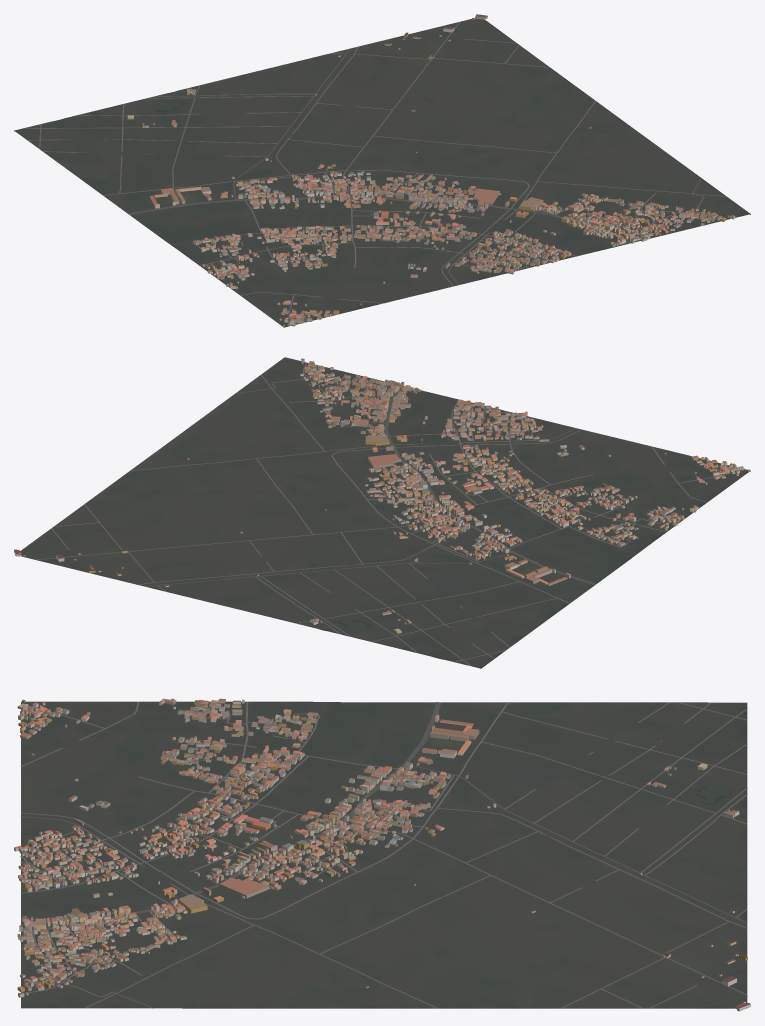
3 views of the same model, one above another, from view 1: azimuth 30°, elevation 25°; view 2: azimuth 150°, elevation 25°; view 3: azimuth 270°, elevation 25° (orthographic). The views are drawn at different scales.
Parts seen in each view (by area): view 1: ground, buildings, roads; view 2: ground, buildings, roads; view 3: ground, buildings, roads.
Part boxes in pixels (bbox=[...]): ground: bbox=[14, 18, 750, 327]; buildings: bbox=[127, 14, 735, 326]; roads: bbox=[24, 21, 728, 326]; ground: bbox=[15, 357, 750, 668]; buildings: bbox=[14, 358, 749, 633]; roads: bbox=[34, 362, 746, 666]; ground: bbox=[21, 701, 747, 1008]; buildings: bbox=[14, 698, 750, 1011]; roads: bbox=[20, 701, 747, 1008].
Size of the model in its own units: 1415 by 20.34 by 1422.
